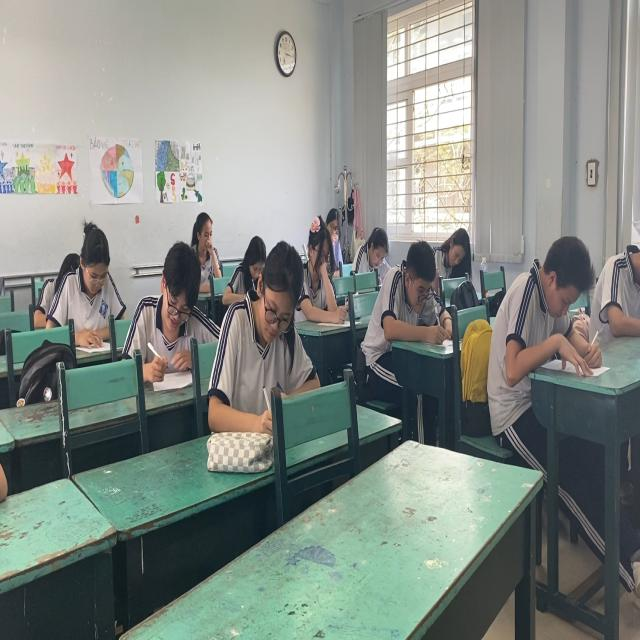not_cheating: (227, 244, 307, 409), (44, 216, 128, 354), (126, 237, 210, 367), (508, 233, 598, 326), (385, 237, 441, 344), (293, 212, 340, 323), (186, 198, 226, 288), (433, 219, 472, 275), (356, 233, 396, 278), (237, 226, 266, 282)
